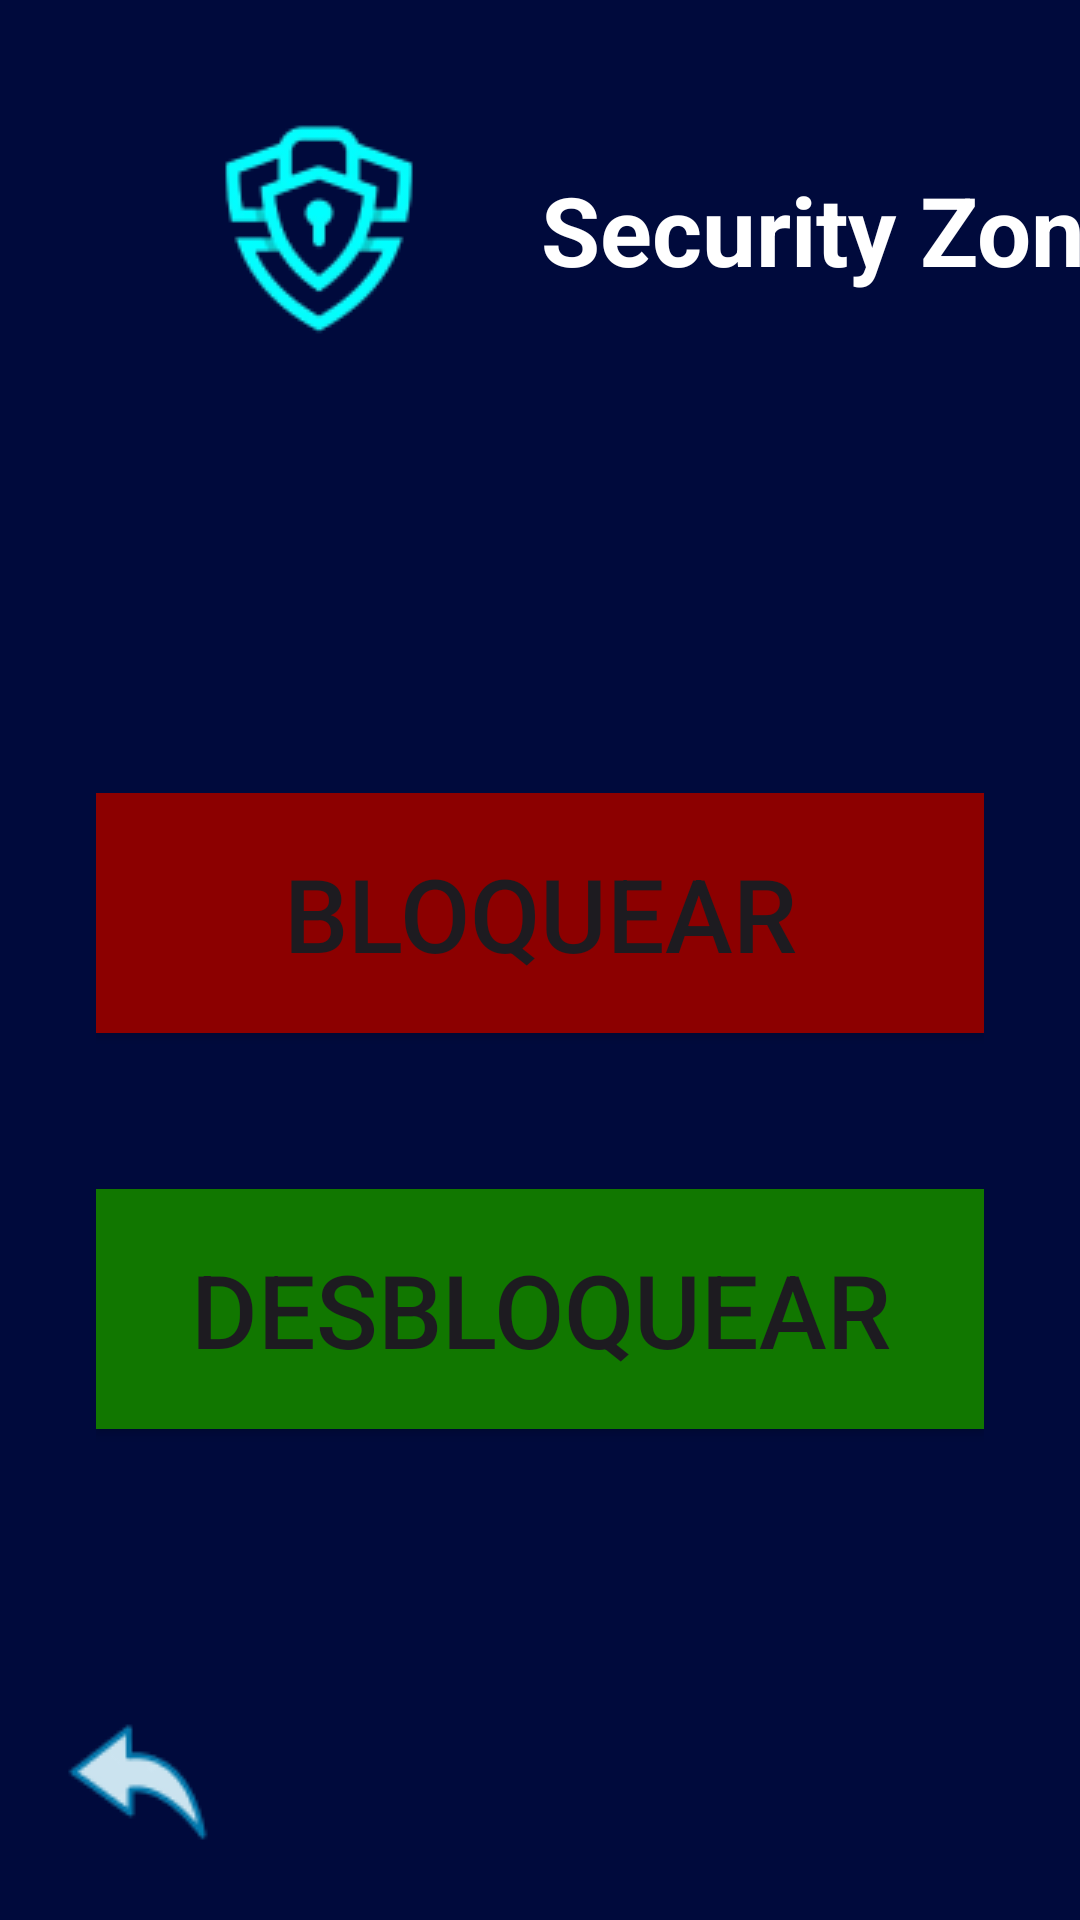

Icons on this 1080w x 1920h Android screen, each with its box as (x1, y1, x2, y2):
atras: (69, 1725, 207, 1839)
